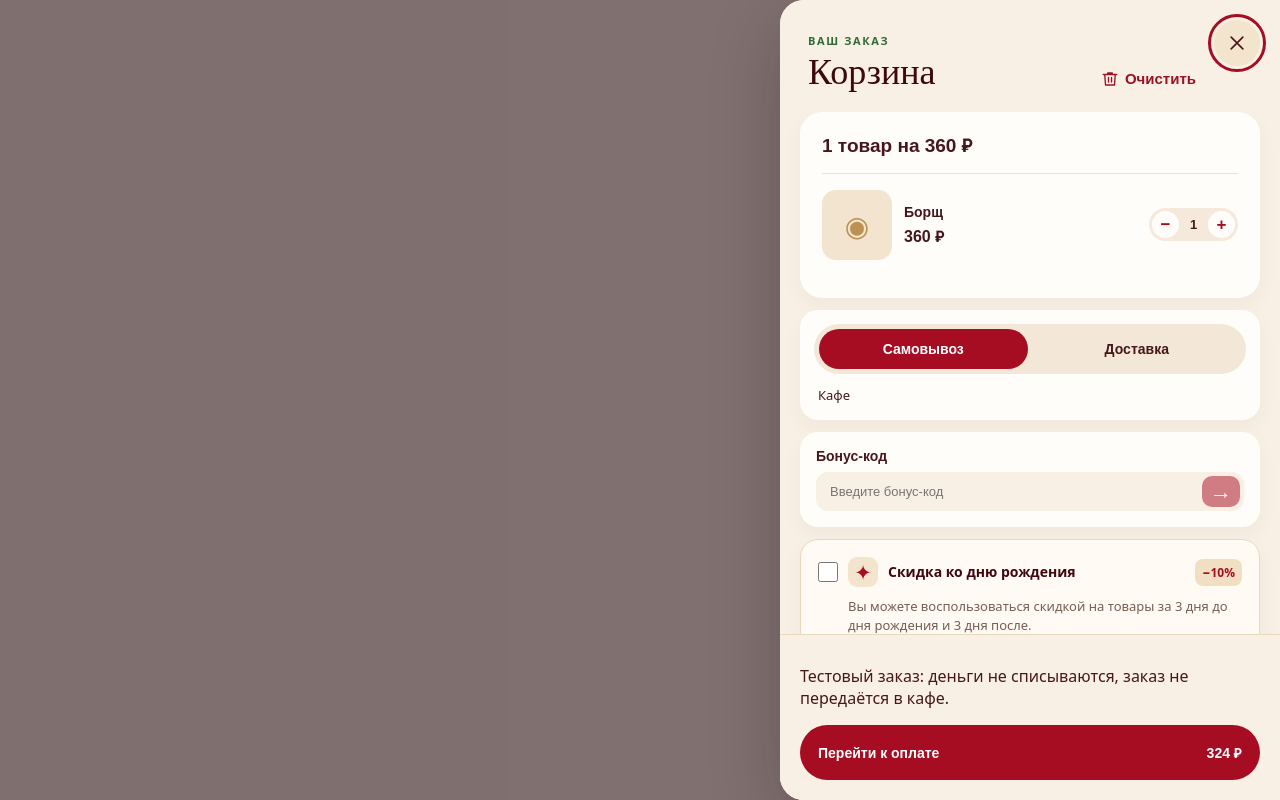
Test: после перезагрузки продолжает тот же заказ: payment-error
Later steps or results of the test are not shown.
Click the checkbox labelled "✦ Скидка ко дню рождения −10%".
click(828, 572)  # box [818, 562, 838, 582]
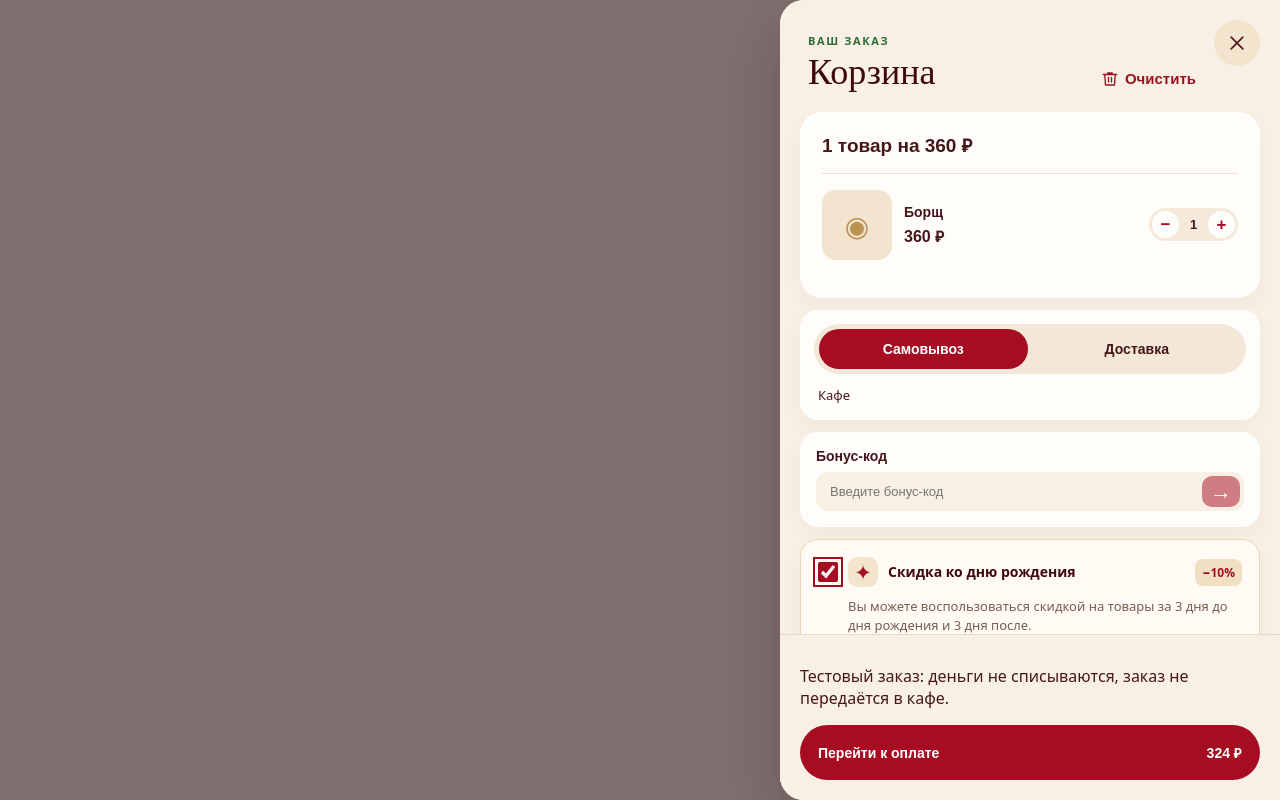
Click the button "Перейти к оплате 324 ₽".
click(879, 752)  # box [800, 725, 1260, 780]
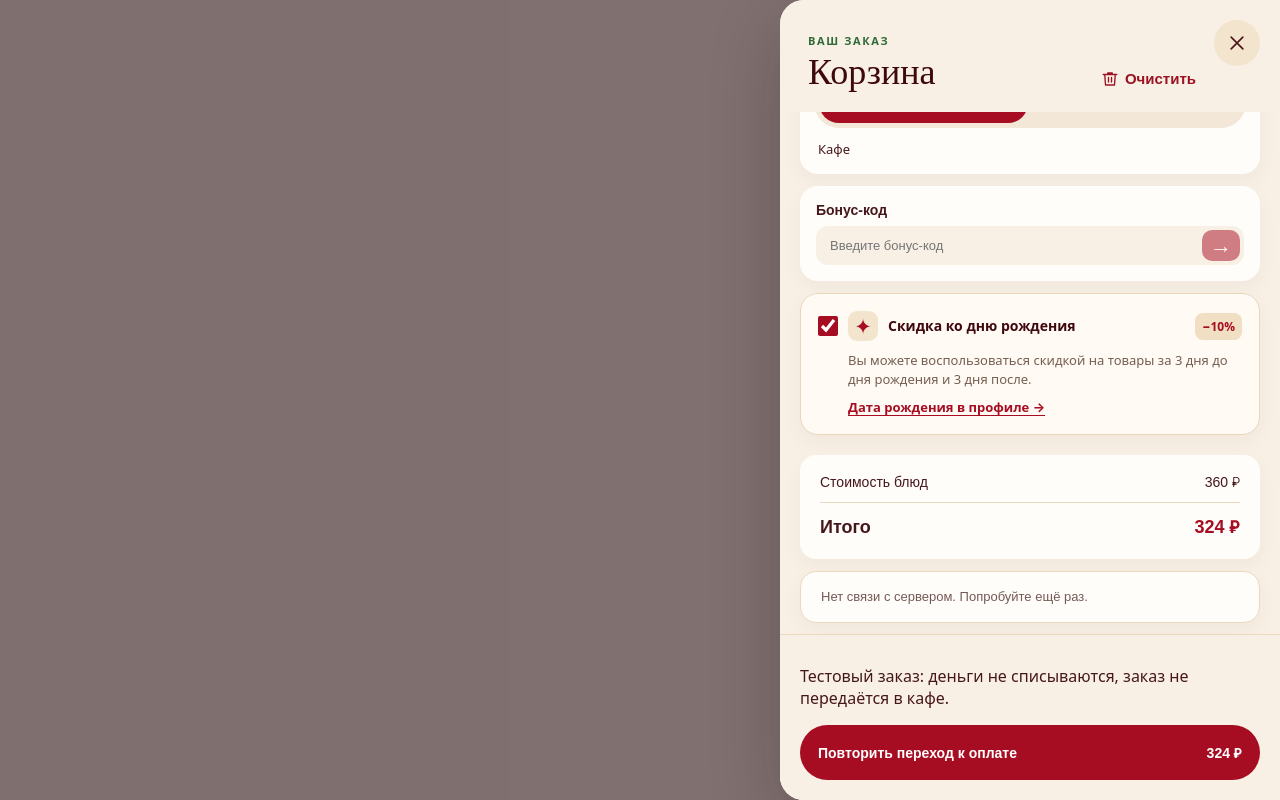
Result: the text "Нет связи с сервером. Попробуйте ещё раз." is shown at [800, 570, 1260, 623]
